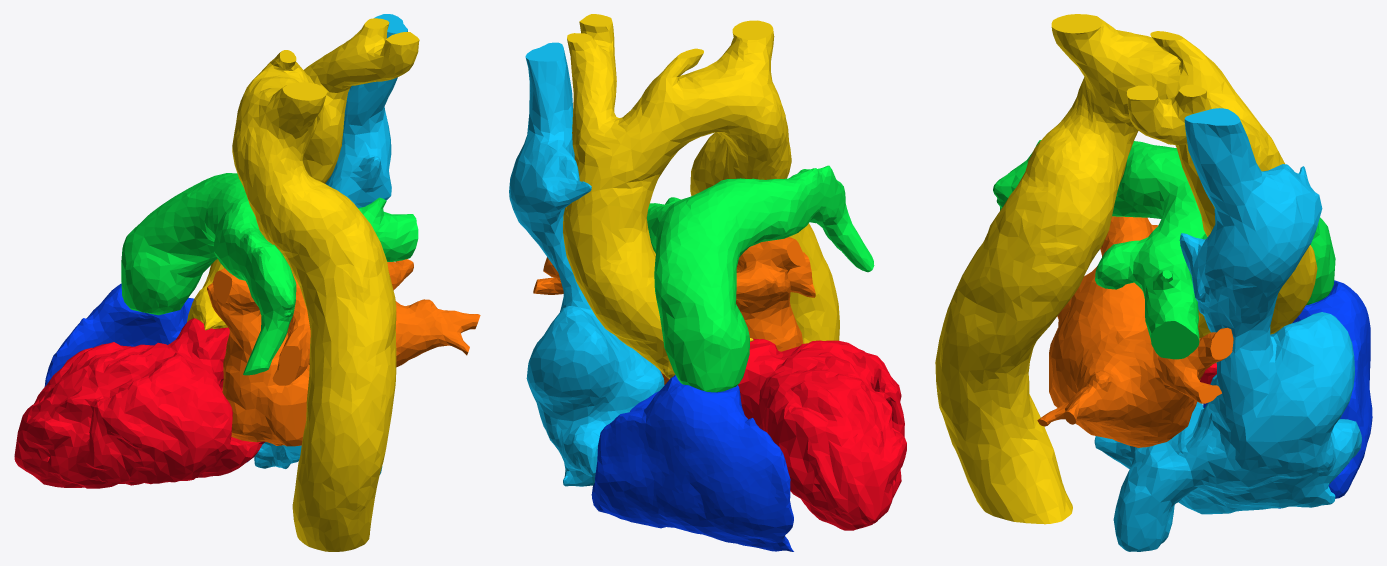
File: heart.gltf
The picture shows the model from 3 angles, left to right: view 1: azimuth 30°, elevation 25°; view 2: azimuth 150°, elevation 25°; view 3: azimuth 270°, elevation 25°; orthographic projection. The views are drawn at different scales.
Parts seen in each view (by area): view 1: Ccase 001 Ao Repaired Remeshed Reduced90 Smoothed Aligned, Ccase 001 Lv Repaired Remeshed Reduced90 Smoothed Aligned, Ccase 001 Pa Repaired Remeshed Reduced90 Smoothed Aligned, Ccase 001 La Repaired Remeshed Reduced90 Smoothed Aligned, Ccase 001 Ra Repaired Remeshed Reduced90 Smoothed Aligned, Ccase 001 Rv Repaired Remeshed Reduced90 Smoothed Aligned; view 2: Ccase 001 Ao Repaired Remeshed Reduced90 Smoothed Aligned, Ccase 001 Rv Repaired Remeshed Reduced90 Smoothed Aligned, Ccase 001 Ra Repaired Remeshed Reduced90 Smoothed Aligned, Ccase 001 Pa Repaired Remeshed Reduced90 Smoothed Aligned, Ccase 001 Lv Repaired Remeshed Reduced90 Smoothed Aligned, Ccase 001 La Repaired Remeshed Reduced90 Smoothed Aligned; view 3: Ccase 001 Ao Repaired Remeshed Reduced90 Smoothed Aligned, Ccase 001 Ra Repaired Remeshed Reduced90 Smoothed Aligned, Ccase 001 La Repaired Remeshed Reduced90 Smoothed Aligned, Ccase 001 Pa Repaired Remeshed Reduced90 Smoothed Aligned, Ccase 001 Rv Repaired Remeshed Reduced90 Smoothed Aligned.
Boxes of the visible parts, x1,y1,x2,y2 form: Ccase 001 Ao Repaired Remeshed Reduced90 Smoothed Aligned: (187, 18, 419, 551); Ccase 001 Lv Repaired Remeshed Reduced90 Smoothed Aligned: (14, 318, 265, 488); Ccase 001 Pa Repaired Remeshed Reduced90 Smoothed Aligned: (121, 173, 418, 375); Ccase 001 La Repaired Remeshed Reduced90 Smoothed Aligned: (207, 259, 480, 446); Ccase 001 Ra Repaired Remeshed Reduced90 Smoothed Aligned: (254, 14, 407, 474); Ccase 001 Rv Repaired Remeshed Reduced90 Smoothed Aligned: (44, 283, 249, 462); Ccase 001 Ao Repaired Remeshed Reduced90 Smoothed Aligned: (563, 14, 839, 379); Ccase 001 Rv Repaired Remeshed Reduced90 Smoothed Aligned: (591, 375, 793, 551); Ccase 001 Ra Repaired Remeshed Reduced90 Smoothed Aligned: (509, 42, 664, 486); Ccase 001 Pa Repaired Remeshed Reduced90 Smoothed Aligned: (647, 165, 874, 392); Ccase 001 Lv Repaired Remeshed Reduced90 Smoothed Aligned: (738, 338, 906, 530); Ccase 001 La Repaired Remeshed Reduced90 Smoothed Aligned: (533, 237, 815, 384); Ccase 001 Ao Repaired Remeshed Reduced90 Smoothed Aligned: (935, 14, 1317, 524); Ccase 001 Ra Repaired Remeshed Reduced90 Smoothed Aligned: (1094, 108, 1361, 551); Ccase 001 La Repaired Remeshed Reduced90 Smoothed Aligned: (1037, 216, 1233, 447); Ccase 001 Pa Repaired Remeshed Reduced90 Smoothed Aligned: (993, 140, 1335, 359); Ccase 001 Rv Repaired Remeshed Reduced90 Smoothed Aligned: (1203, 280, 1372, 508).
Size of the model in its own units: 153 by 162 by 134.
